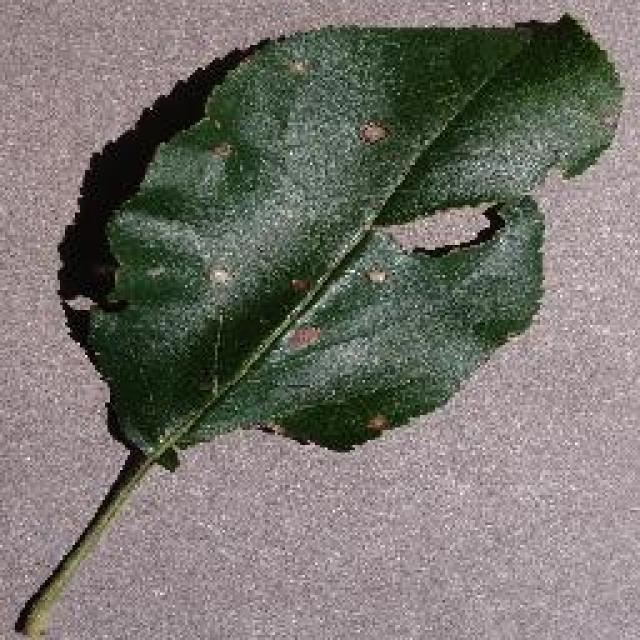apple healthy: (53, 10, 625, 465)
